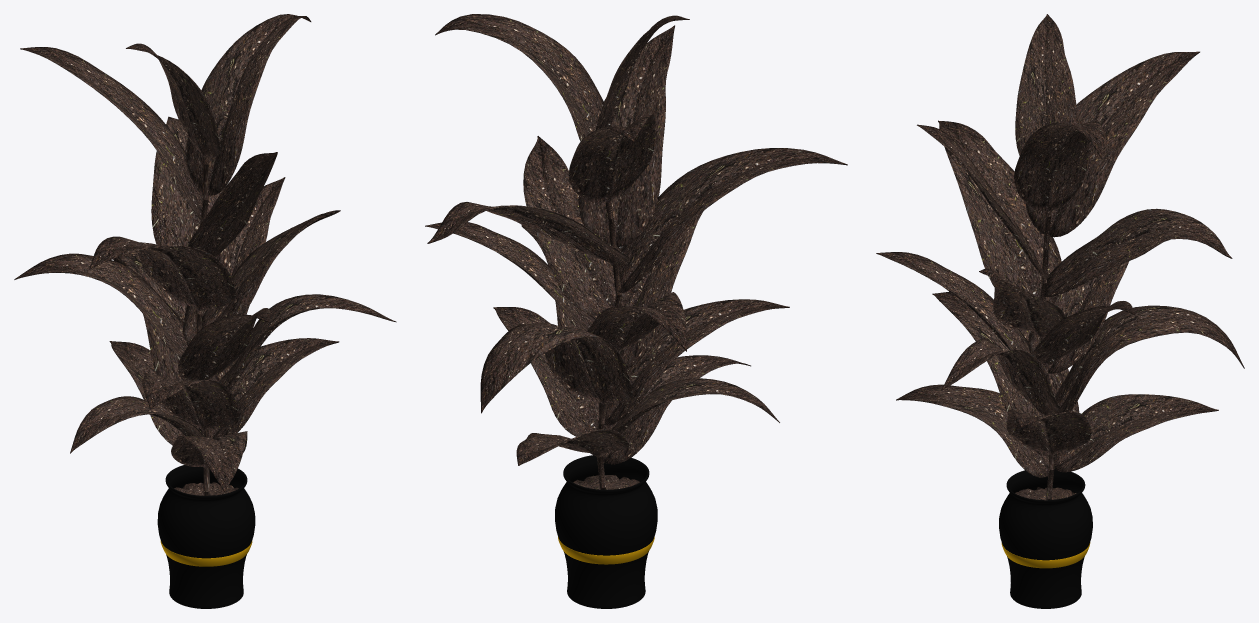
File: plant.fbx
3 renders of one model, left to right at view 1: azimuth 30°, elevation 25°; view 2: azimuth 150°, elevation 25°; view 3: azimuth 270°, elevation 25°, orthographic. The views are drawn at different scales.
Parts seen in each view (by area): view 1: Circle_1, Hoja.004_5, Hoja.006_7, Hoja.010_11, Hoja.002_3, Hoja.016_17, Hoja.014_15, Hoja.009_10, Hoja.018_19, Hoja.008_9, Hoja.007_8, Hoja.005_6 (+8 smaller); view 2: Circle_1, Hoja.011_12, Hoja.006_7, Hoja.016_17, Hoja.005_6, Hoja.004_5, Hoja.010_11, Hoja.014_15, Hoja.018_19, Hoja.002_3, Hoja.009_10, Hoja.003_4 (+7 smaller); view 3: Circle_1, Hoja.006_7, Hoja.010_11, Hoja.018_19, Hoja.004_5, Hoja.007_8, Hoja.011_12, Hoja.013_14, Hoja.017_18, Hoja.012_13, Hoja.008_9, Hoja.009_10 (+7 smaller).
Part boxes in pixels (x1,y1,x2,y2): Circle_1: (157, 465, 255, 608); Hoja.004_5: (185, 14, 311, 195); Hoja.006_7: (89, 236, 235, 310); Hoja.010_11: (20, 47, 203, 222); Hoja.002_3: (14, 253, 187, 357); Hoja.016_17: (188, 152, 277, 257); Hoja.014_15: (142, 373, 238, 431); Hoja.009_10: (198, 338, 339, 439); Hoja.018_19: (151, 116, 235, 267); Hoja.008_9: (178, 308, 270, 380); Hoja.007_8: (126, 43, 220, 157); Hoja.005_6: (202, 210, 340, 328); Circle_1: (555, 455, 657, 608); Hoja.011_12: (480, 323, 632, 413); Hoja.006_7: (614, 148, 847, 293); Hoja.016_17: (578, 25, 674, 247); Hoja.005_6: (523, 136, 634, 316); Hoja.004_5: (435, 14, 611, 141); Hoja.010_11: (568, 114, 655, 202); Hoja.014_15: (598, 299, 789, 425); Hoja.018_19: (427, 202, 629, 264); Hoja.002_3: (587, 292, 686, 351); Hoja.009_10: (493, 307, 609, 436); Hoja.003_4: (425, 222, 597, 331); Circle_1: (999, 469, 1092, 608); Hoja.006_7: (938, 120, 1061, 303); Hoja.010_11: (1025, 51, 1199, 237); Hoja.018_19: (1041, 208, 1232, 297); Hoja.004_5: (1014, 120, 1104, 211); Hoja.007_8: (1015, 14, 1079, 155); Hoja.011_12: (1055, 305, 1244, 412); Hoja.013_14: (1054, 394, 1218, 472); Hoja.017_18: (896, 384, 1048, 477); Hoja.012_13: (941, 338, 1060, 415); Hoja.008_9: (876, 252, 1029, 352); Hoja.009_10: (1006, 410, 1091, 455).
Bounding box in the file's own units: 42.89 × 74.87 × 46.08.
Materials: 5 (3 with a texture image).
